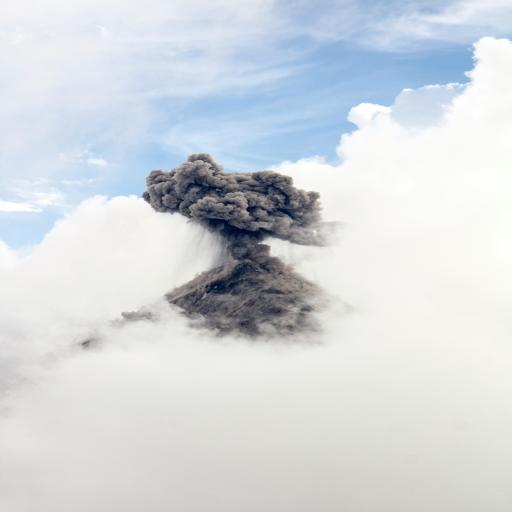smoke: (87, 132, 363, 266)
